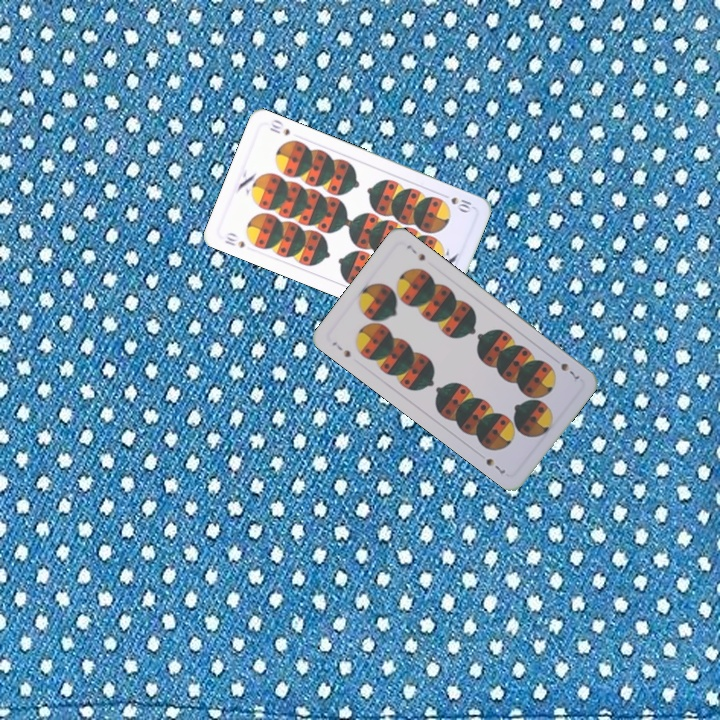S10: (437, 189, 476, 215), (220, 228, 247, 251)
S7: (556, 359, 582, 382), (328, 338, 353, 360)
